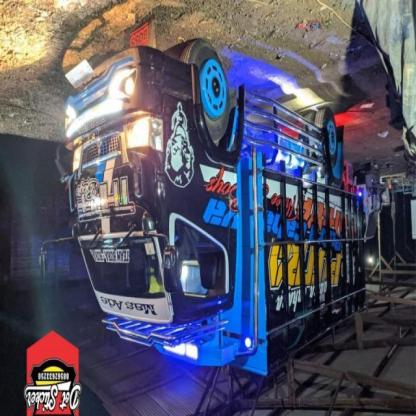truck: (42, 40, 367, 377)
